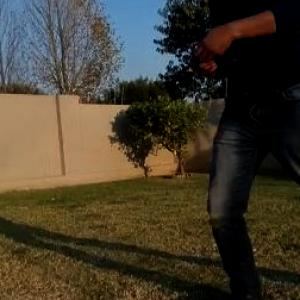follow: (177, 0, 300, 299)
